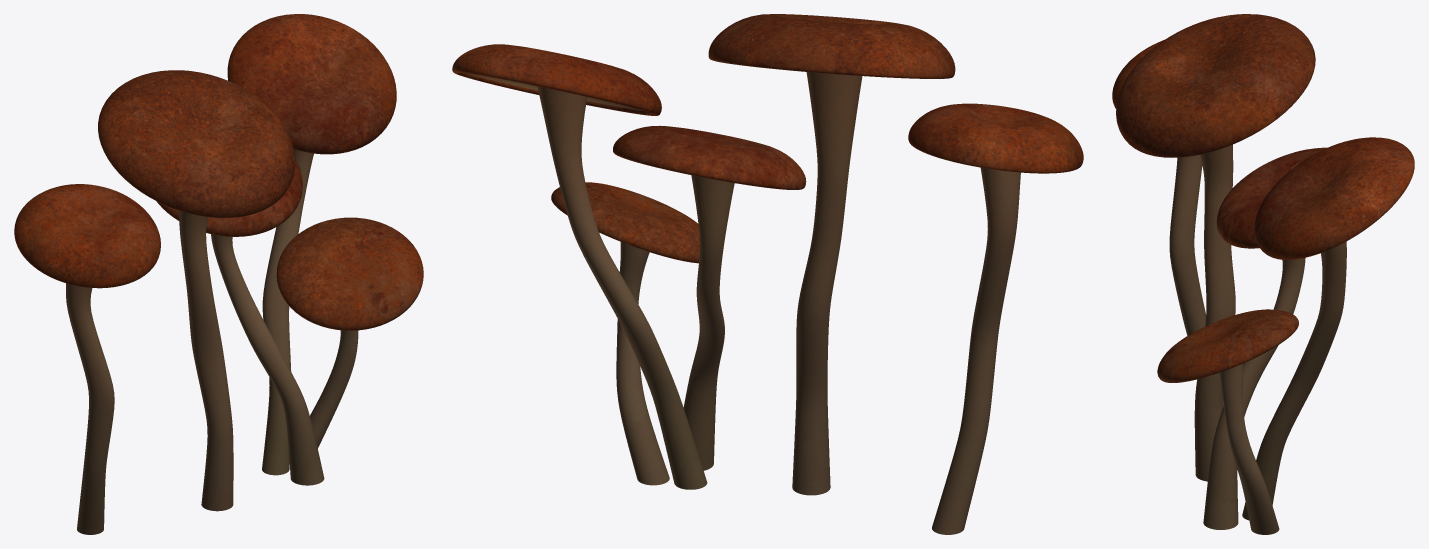
The model's file is LongBrownMushroom.fbx.
3 renders of one model, left to right at view 1: azimuth 30°, elevation 25°; view 2: azimuth 150°, elevation 25°; view 3: azimuth 270°, elevation 25°, orthographic. The views are drawn at different scales.
Visible parts, largest first — view 1: MushLong.012, MushLong.010, MushLong.011, MushLong.014, MushLong.013; view 2: MushLong.012, MushLong.011, MushLong.010, MushLong.013, MushLong.014; view 3: MushLong.012, MushLong.010, MushLong.014, MushLong.013, MushLong.011.
Part boxes in pixels (x1=…): MushLong.012: x1=98, y1=70, x2=295, y2=511; MushLong.010: x1=227, y1=14, x2=396, y2=475; MushLong.011: x1=14, y1=184, x2=160, y2=534; MushLong.014: x1=276, y1=217, x2=423, y2=448; MushLong.013: x1=156, y1=159, x2=324, y2=485; MushLong.012: x1=708, y1=14, x2=955, y2=495; MushLong.011: x1=908, y1=103, x2=1083, y2=534; MushLong.010: x1=452, y1=44, x2=707, y2=489; MushLong.013: x1=613, y1=125, x2=806, y2=470; MushLong.014: x1=551, y1=182, x2=699, y2=485; MushLong.012: x1=1116, y1=14, x2=1315, y2=481; MushLong.010: x1=1242, y1=137, x2=1414, y2=520; MushLong.014: x1=1157, y1=309, x2=1298, y2=534; MushLong.013: x1=1203, y1=147, x2=1327, y2=529; MushLong.011: x1=1112, y1=40, x2=1223, y2=407.
Size of the model in its own units: 906 by 817 by 522.
Materials: 1 (1 with a texture image).
